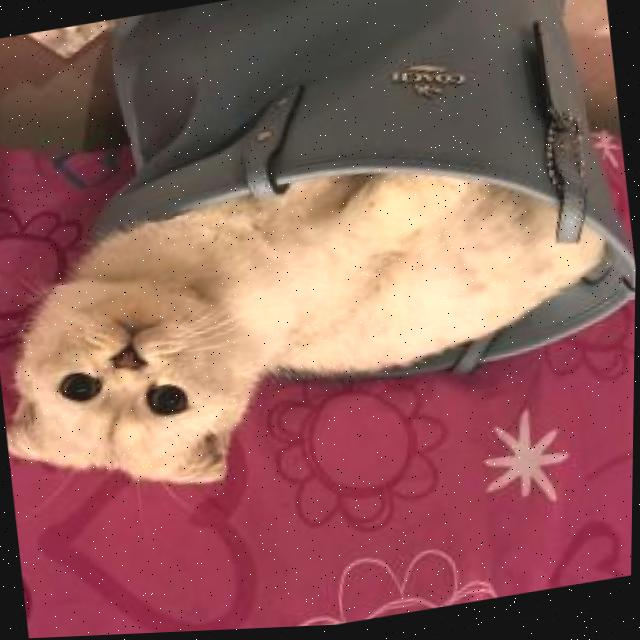Scottish Fold: (0, 128, 633, 524)
